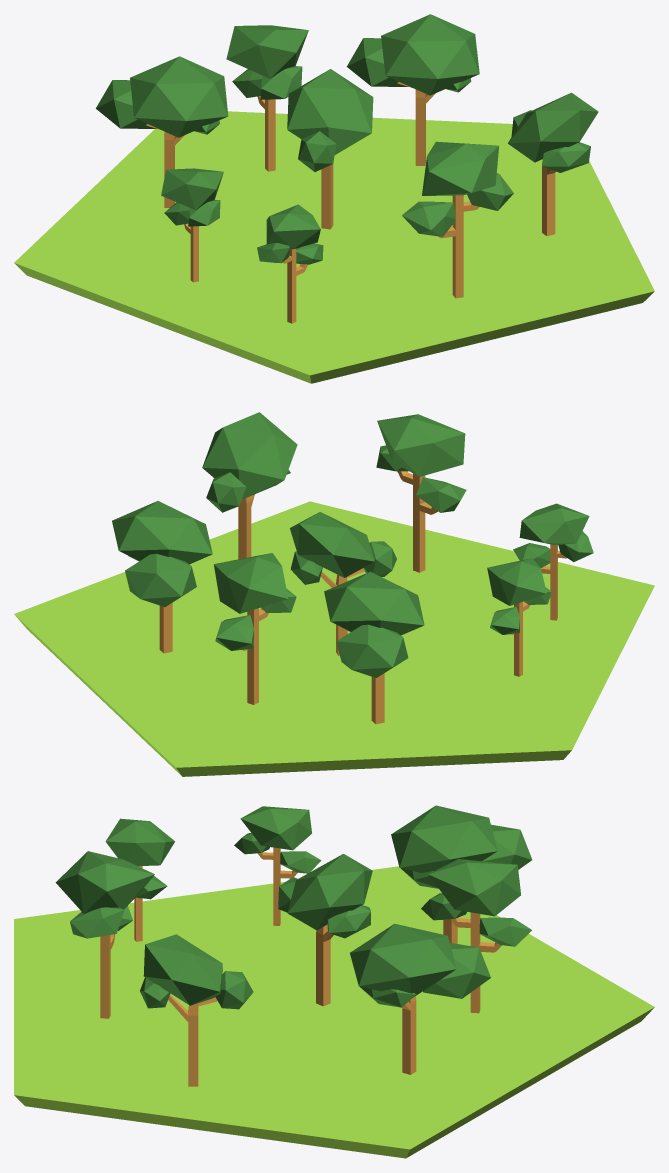
File: TuileForestLeaf.fbx
3 renders of one model, top to bottom at view 1: azimuth 30°, elevation 25°; view 2: azimuth 150°, elevation 25°; view 3: azimuth 270°, elevation 25°, orthographic. The views are drawn at different scales.
Visible parts, largest first — view 1: Grande tuille_foret.003; view 2: Grande tuille_foret.003; view 3: Grande tuille_foret.003.
Part boxes in pixels (<box>): Grande tuille_foret.003: <box>14,14,654,383</box>; Grande tuille_foret.003: <box>14,412,654,776</box>; Grande tuille_foret.003: <box>14,805,654,1158</box>.
Bounding box in the file's own units: 111 × 31.23 × 105.
